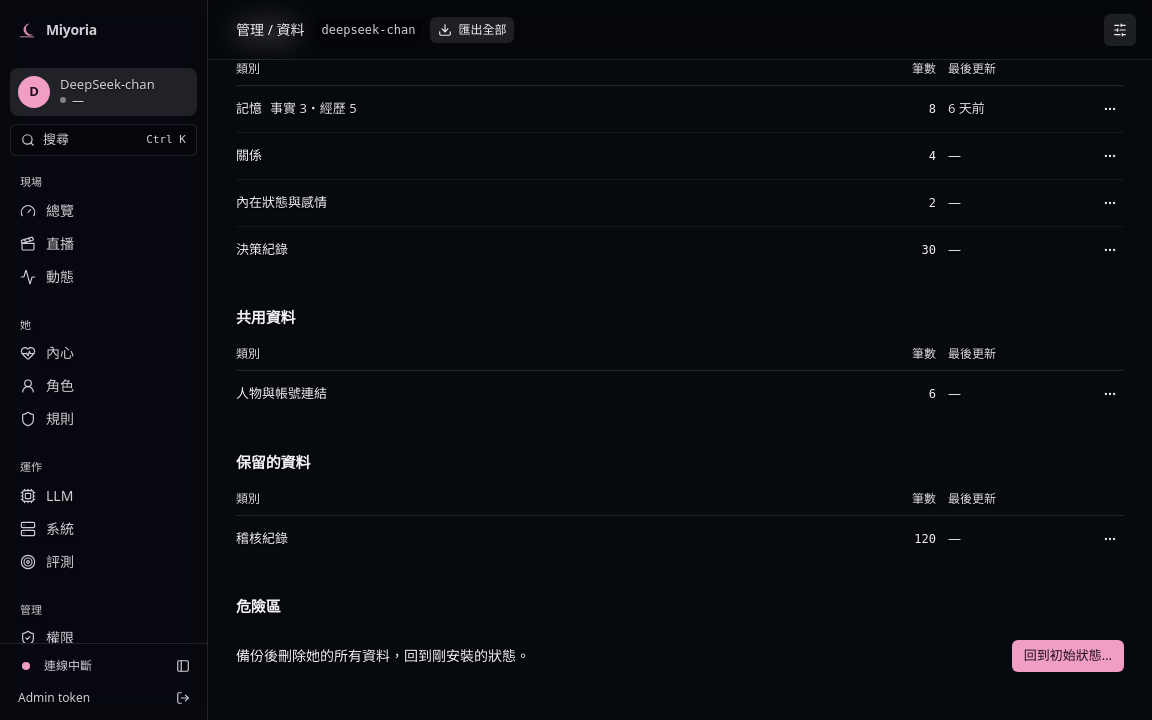
Test: Data › factory reset: backup first, then the typed id, then the reset with the backup token
The image size is (1152, 720).
(page scrolled)
Click the button "回到初始狀態…" at coordinates (1068, 656), box [1012,640,1124,672]
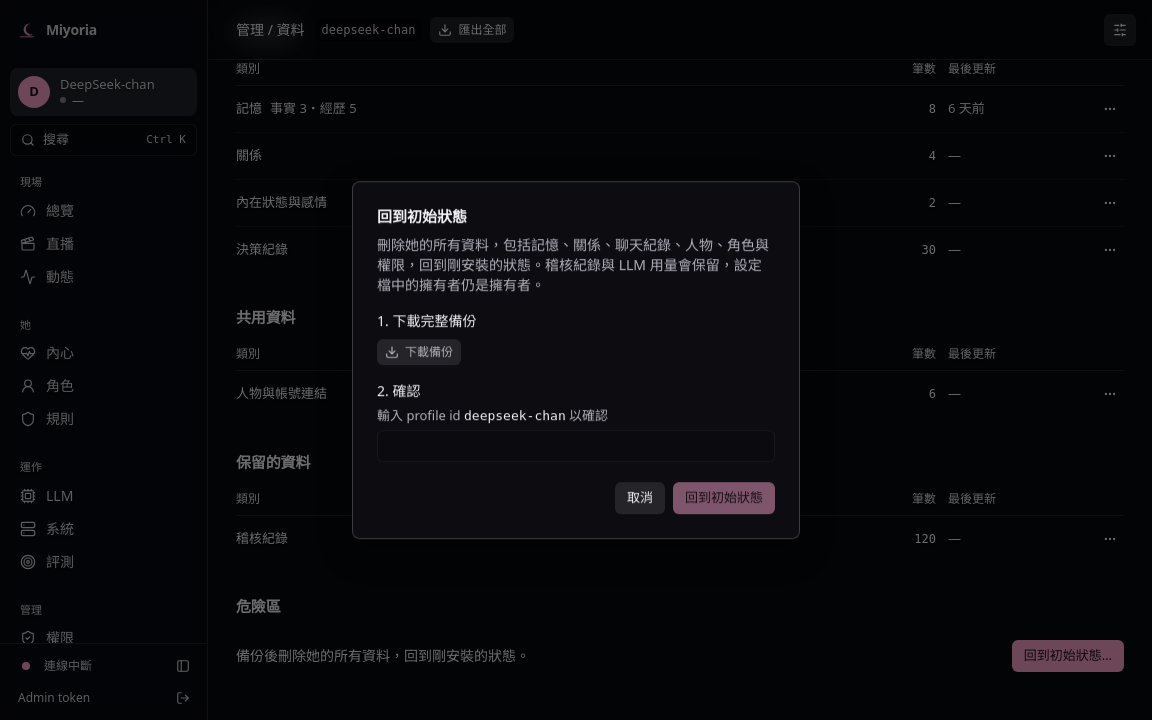
Expected: the button "回到初始狀態" is disabled, [673,482,775,514]
Click the button "下載備份" at coordinates (419, 352), box [377,339,461,365]
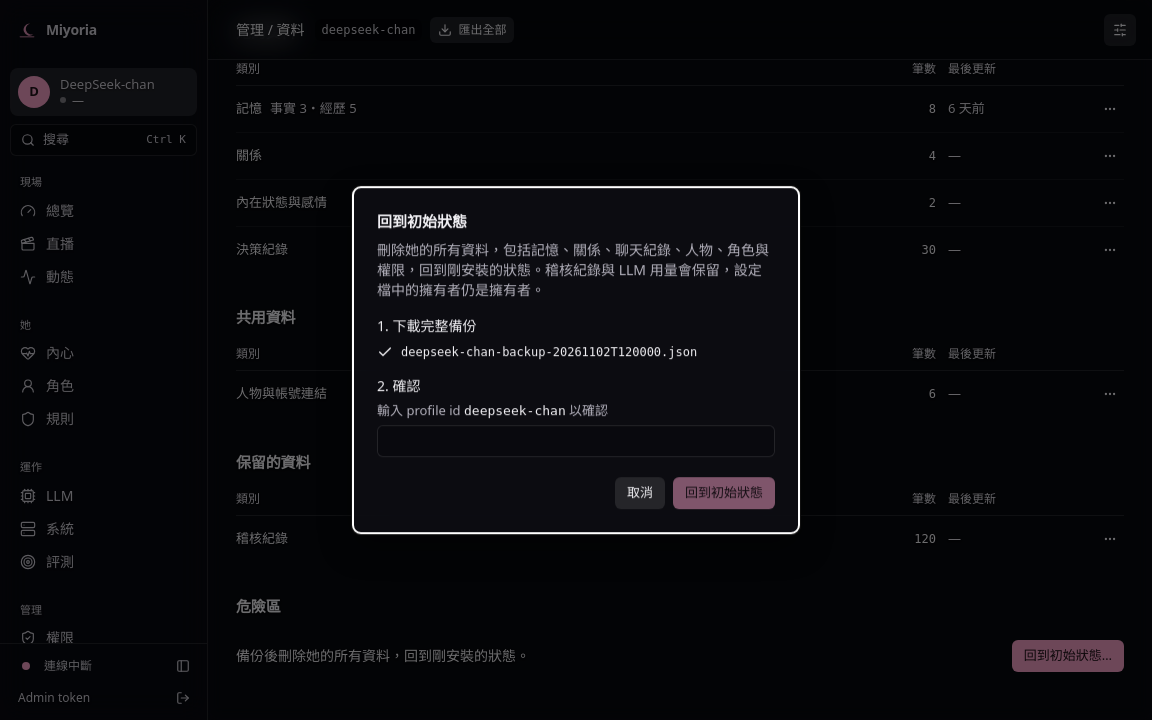
Expected: the button "回到初始狀態" is disabled, [673,477,775,509]
Expected: the text "deepseek-chan-backup-20261102T120000.json" is shown, [401,344,697,360]
Type "deepseek-chan" into the field labelled "輸入 profile id deepseek-chan 以確認" at coordinates (576, 441), box [377,425,775,457]
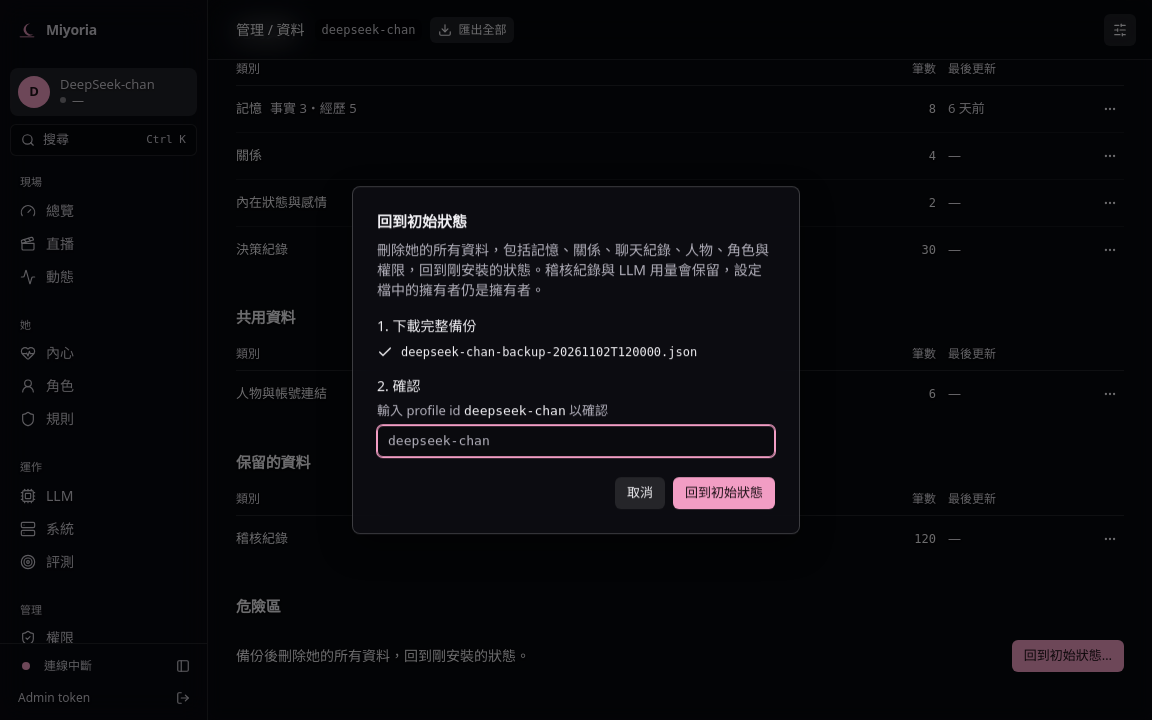
Click the button "回到初始狀態" at coordinates (724, 493), box [673,477,775,509]
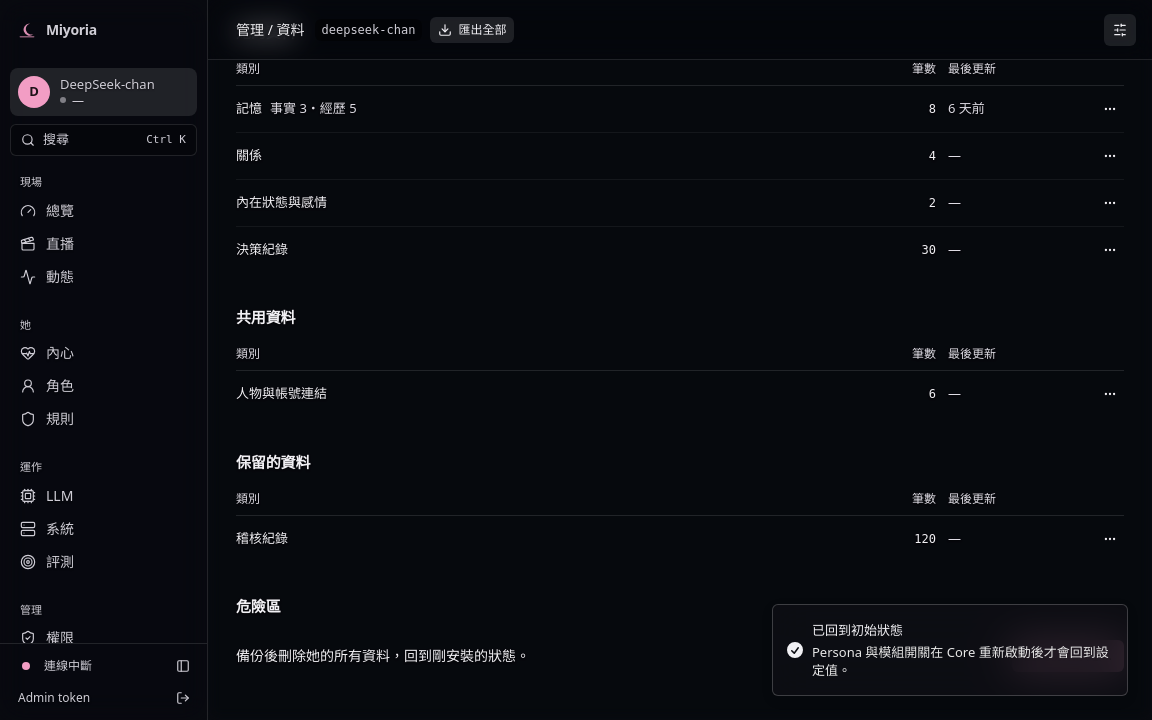
Expected: the text "已回到初始狀態" is shown, [812,621,903,639]
